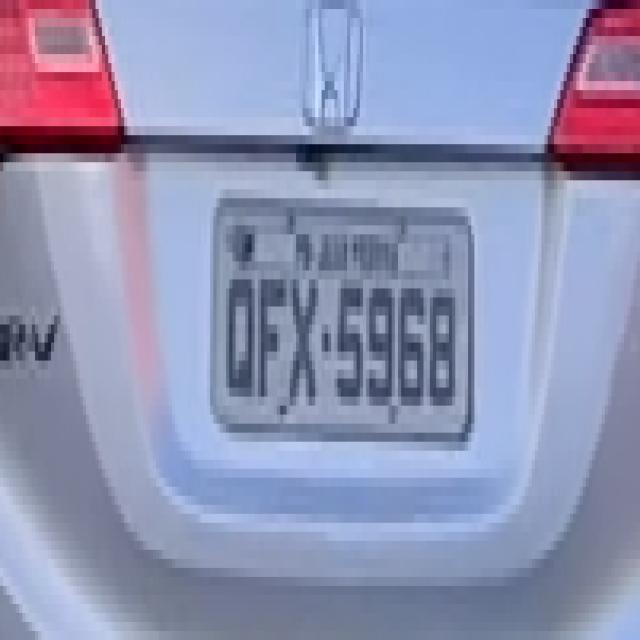Placa_mercosul_carro: (208, 194, 476, 443)
